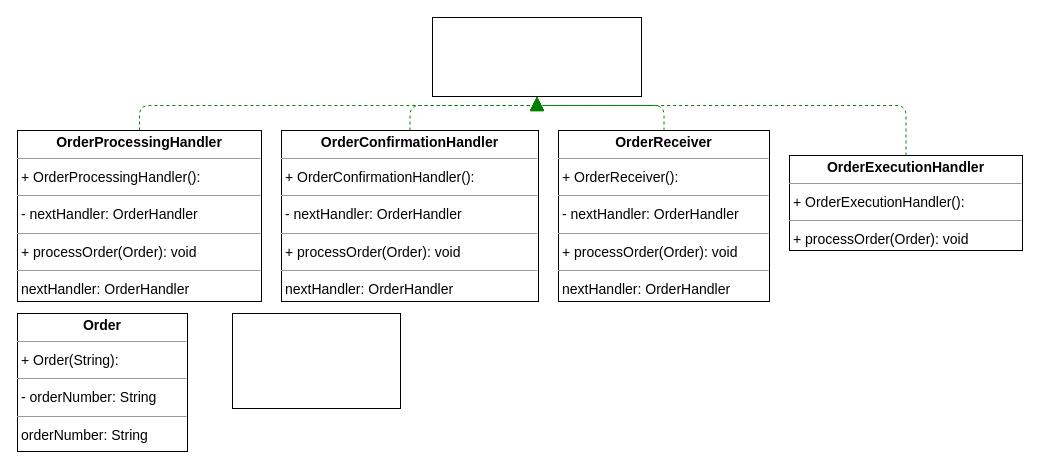
This 1040x469 diagram has some shape labels left out. The centre of each missing label's shape, as x and y in pixels:
"<<interface>> OrderHandler + processOrder(Order): void" goes at [537,56].
"Main + Main(): + main(String[]): void" goes at [316,360].
